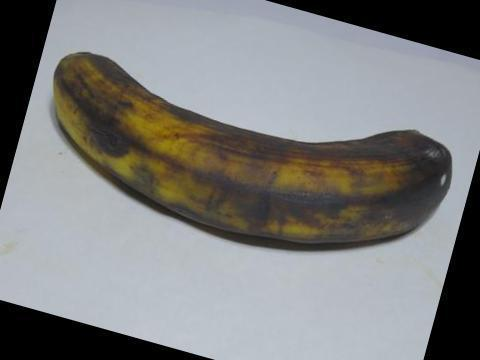overripe: (36, 32, 462, 254)
rotten: (381, 112, 458, 237)
